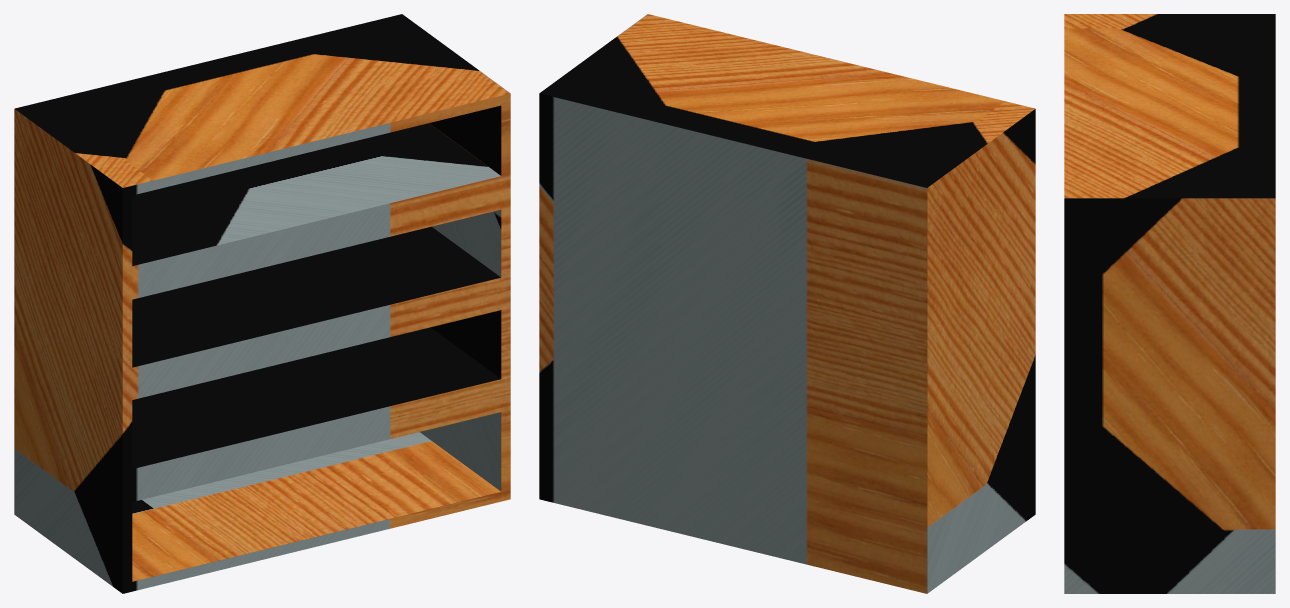
The model's file is shelf.obj.
The picture shows the model from 3 angles, left to right: view 1: azimuth 30°, elevation 25°; view 2: azimuth 150°, elevation 25°; view 3: azimuth 270°, elevation 25°; orthographic projection. The views are drawn at different scales.
Visible parts, largest first — view 1: shelf; view 2: shelf; view 3: shelf.
Part boxes in pixels (left/top/right/bottom): shelf: left=14, top=14, right=510, bottom=593; shelf: left=539, top=14, right=1035, bottom=593; shelf: left=1064, top=14, right=1275, bottom=593.
Bounding box in the file's own units: 2 × 2 × 0.9691.
